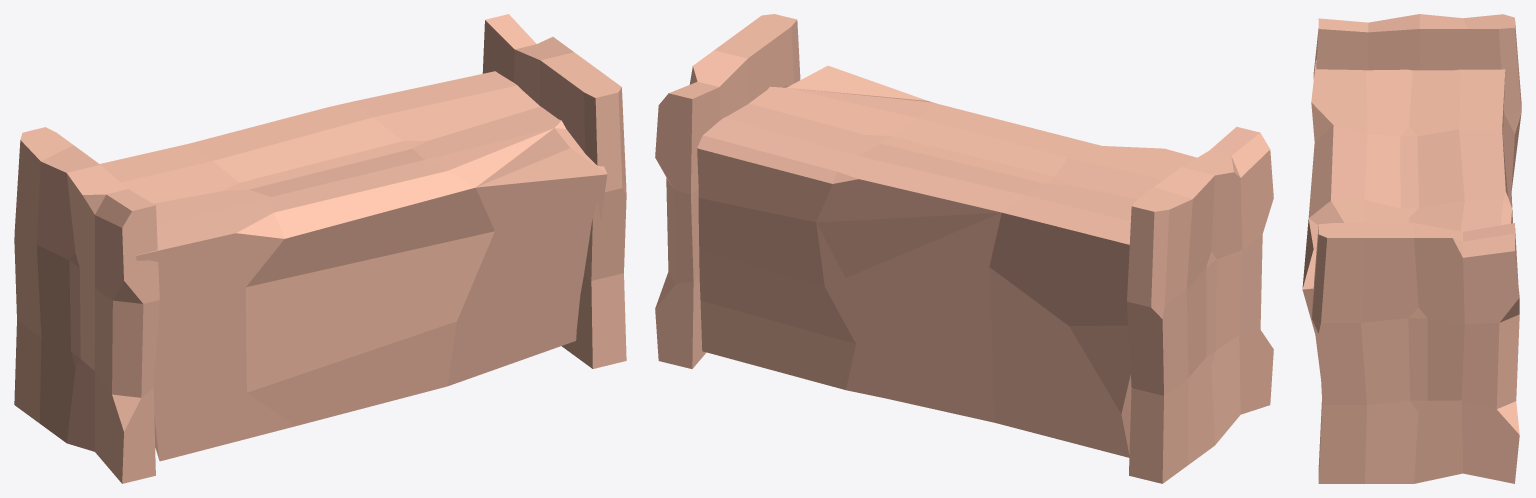
The model's file is sandGrave.glb.
3 views of the same model, side by side, from view 1: azimuth 30°, elevation 25°; view 2: azimuth 150°, elevation 25°; view 3: azimuth 270°, elevation 25° (orthographic). The views are drawn at different scales.
Visible parts, largest first — view 1: Cube; view 2: Cube; view 3: Cube.
Boxes of the visible parts, box(x1,y1,x2,y2) form: Cube: box(14, 14, 626, 483); Cube: box(655, 14, 1273, 483); Cube: box(1302, 14, 1521, 483).
Size of the model in its own units: 3.88 by 1.98 by 1.6.
